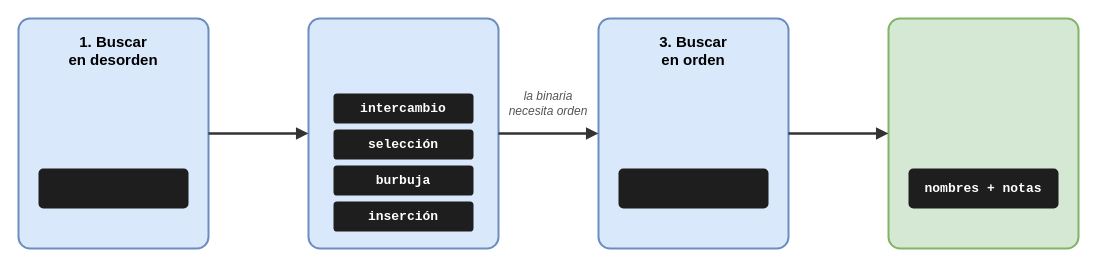
Image size: 1096x266. Some labels were removed from this diagram. The shapes that lost their labels are listed below. From the top down, each one's box as (x1, y1, x2, y2) in pixels, then its label:
(307, 17, 499, 249): 2. Ordenar
(887, 17, 1079, 249): 4. Problema pendiente
(38, 168, 188, 208): búsqueda lineal
(618, 168, 768, 208): búsqueda binaria
